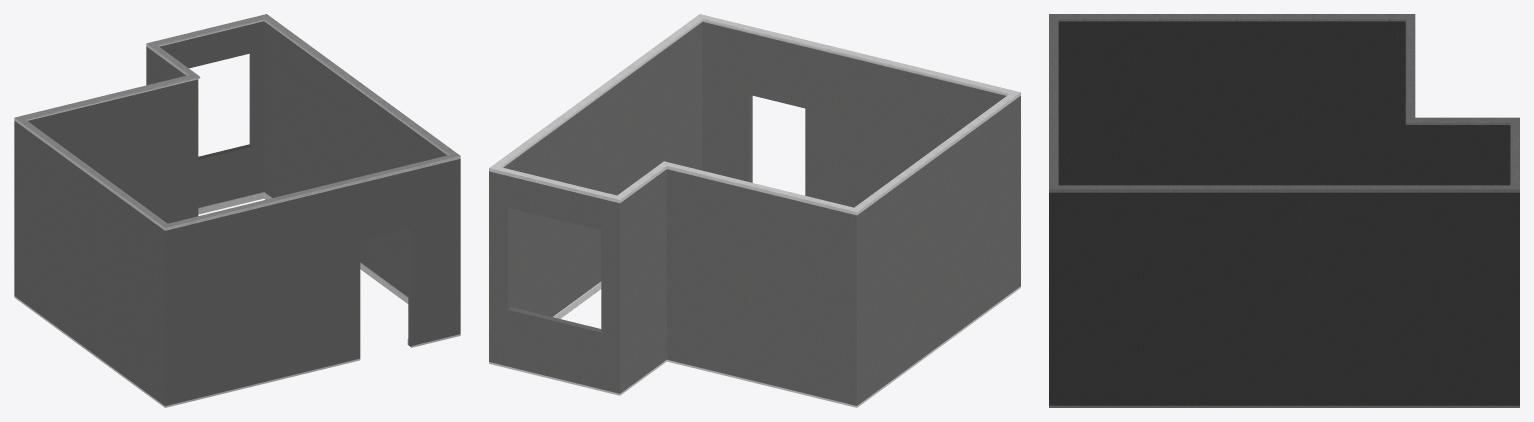
The model's file is FP330:StandardWallSize_872d4cf7.obj.
The picture shows the model from 3 angles, left to right: view 1: azimuth 30°, elevation 25°; view 2: azimuth 150°, elevation 25°; view 3: azimuth 270°, elevation 25°; orthographic projection. The views are drawn at different scales.
Parts seen in each view (by area): view 1: FP330:StandardWallSize_872d4cf7; view 2: FP330:StandardWallSize_872d4cf7; view 3: FP330:StandardWallSize_872d4cf7.
Boxes of the visible parts, x1,y1,x2,y2 form: FP330:StandardWallSize_872d4cf7: (14,14,460,407); FP330:StandardWallSize_872d4cf7: (489,14,1020,407); FP330:StandardWallSize_872d4cf7: (1049,14,1519,407).
Bounding box in the file's own units: 5.15 × 3 × 5.85.
